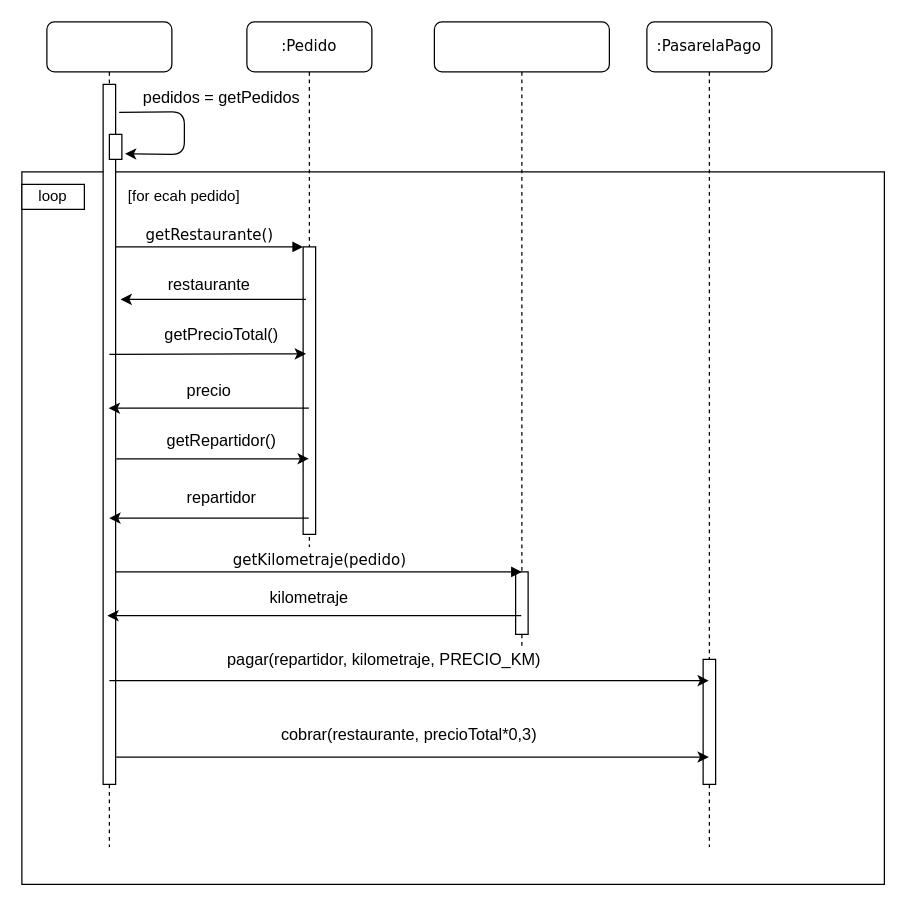
Image size: 906x906. Some labels were removed from this diagram. The box of each missing label's shape, as (x1, y1, x2, y2) in pixels:
:Sistema: (46, 21, 172, 847)
repartidor:Repartidor: (433, 21, 609, 647)
